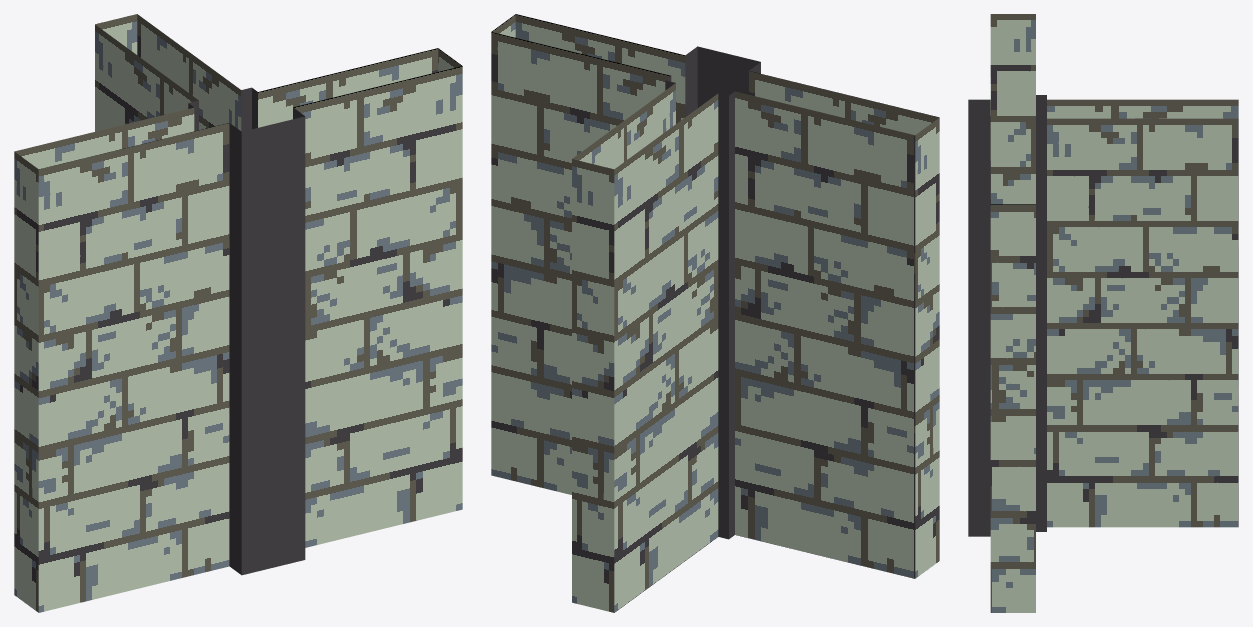
File: twall_01.glb
3 views of the same model, side by side, from view 1: azimuth 30°, elevation 25°; view 2: azimuth 150°, elevation 25°; view 3: azimuth 270°, elevation 25° (orthographic). The views are drawn at different scales.
Parts seen in each view (by area): view 1: TWall_01; view 2: TWall_01; view 3: TWall_01.
Part boxes in pixels (bbox=[...]): TWall_01: bbox=[14, 14, 462, 612]; TWall_01: bbox=[491, 14, 939, 612]; TWall_01: bbox=[968, 14, 1238, 612].
Size of the model in its own units: 4 by 4 by 2.4.
1 material, 1 textured.
